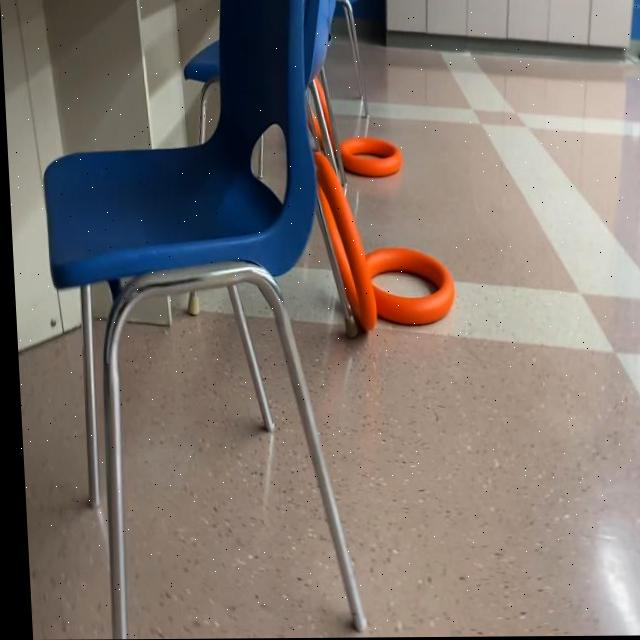note: (308, 149, 374, 332), (361, 244, 454, 333), (301, 70, 336, 158), (336, 133, 403, 178)
